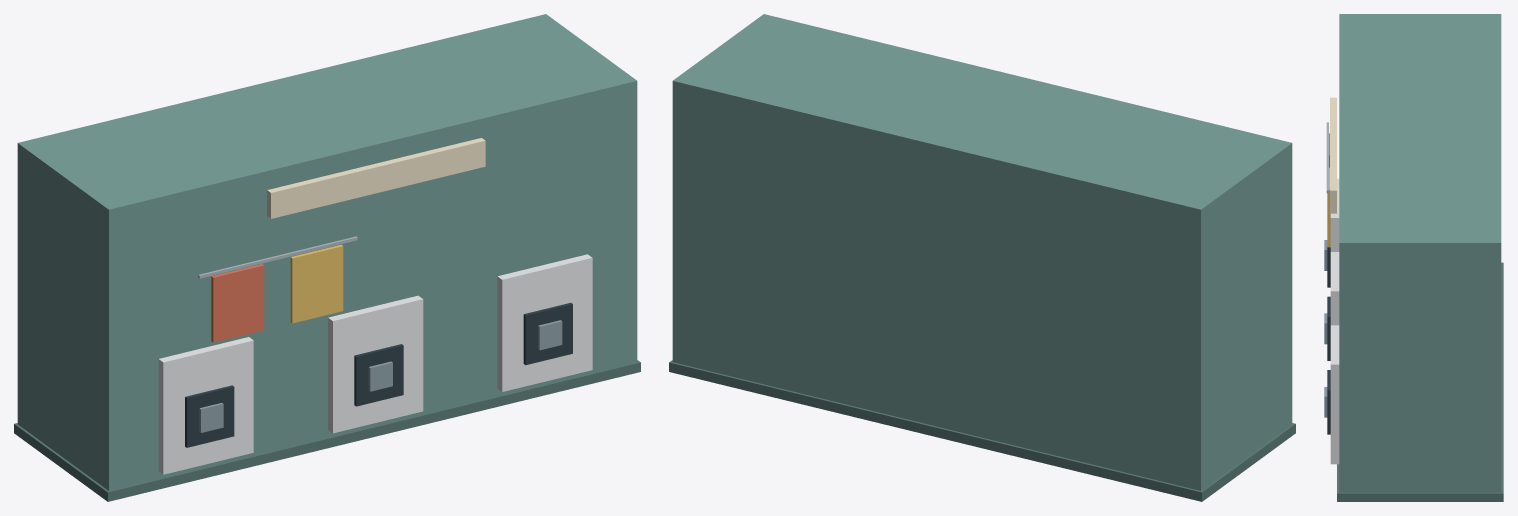
The model's file is lavanderia_comunal.gltf.
The picture shows the model from 3 angles, left to right: view 1: azimuth 30°, elevation 25°; view 2: azimuth 150°, elevation 25°; view 3: azimuth 270°, elevation 25°; orthographic projection. The views are drawn at different scales.
Parts seen in each view (by area): view 1: cuerpo, maquina_2, maquina_1, maquina_3, zocalo, rotulo, toalla_a, toalla_b, portilla_1, portilla_3, portilla_2, cuerda; view 2: cuerpo, zocalo; view 3: cuerpo, zocalo, maquina_3, rotulo, maquina_2, maquina_1, portilla_2, portilla_3, toalla_a, cuerda.
Boxes of the visible parts, x1,y1,x2,y2 form: cuerpo: (17,14,637,490); maquina_2: (328,295,423,433); maquina_1: (158,337,253,474); maquina_3: (497,254,592,391); zocalo: (14,360,640,501); rotulo: (267,138,485,218); toalla_a: (290,244,343,323); toalla_b: (211,264,264,342); portilla_1: (185,385,234,447); portilla_3: (523,302,572,365); portilla_2: (354,344,403,406); cuerda: (198,236,357,278); cuerpo: (672,14,1292,490); zocalo: (669,360,1295,501); cuerpo: (1339,14,1501,492); zocalo: (1337,262,1503,501); maquina_3: (1330,325,1339,464); rotulo: (1330,97,1336,213); maquina_2: (1330,252,1339,325); maquina_1: (1330,178,1339,251); portilla_2: (1327,296,1330,360); portilla_3: (1327,370,1330,434); toalla_a: (1327,167,1330,247); cuerda: (1326,122,1328,193).
Bounding box in the file's own units: 4.72 × 2.46 × 1.55.
